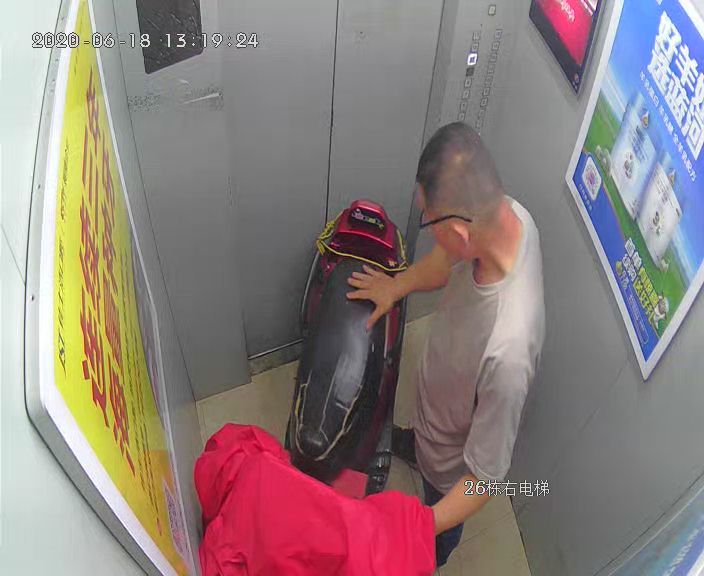Electric-bicycle: (209, 197, 429, 576)
